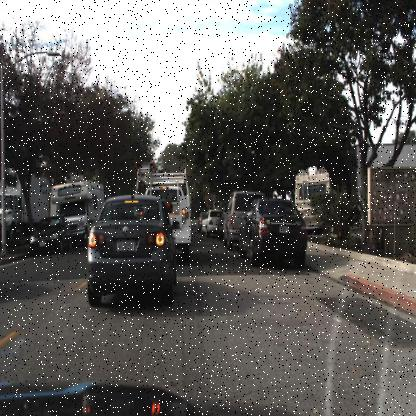car: (86, 192, 178, 308), (135, 162, 197, 254), (237, 196, 308, 268), (50, 180, 104, 242), (293, 160, 333, 236), (221, 191, 266, 253), (27, 211, 71, 257), (200, 208, 223, 239)
truck: (140, 180, 193, 259), (1, 162, 55, 238), (48, 175, 103, 247), (295, 169, 337, 245)
